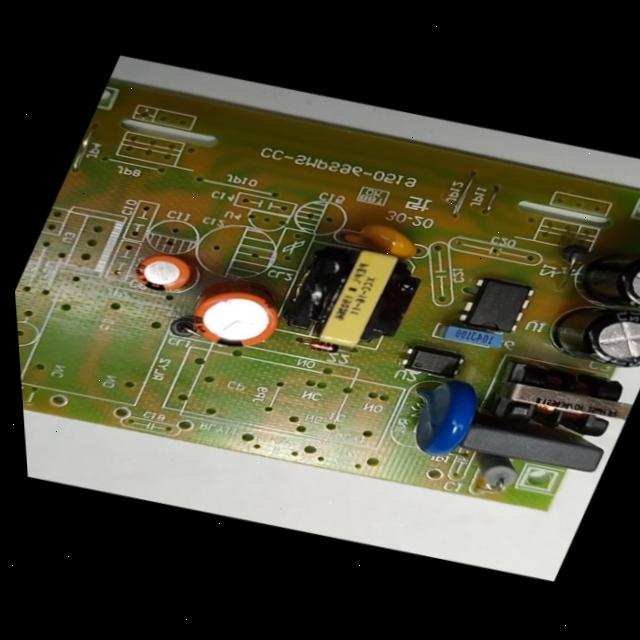Cap1: (174, 274, 298, 357)
Cap2: (126, 247, 203, 298)
Cap3: (536, 290, 640, 375)
Cap4: (564, 236, 640, 317)
MOSFET: (453, 272, 546, 339)
Mov: (381, 368, 496, 462)
Resistor: (454, 448, 530, 493)
Transformer: (271, 235, 437, 357), (482, 356, 640, 447)
